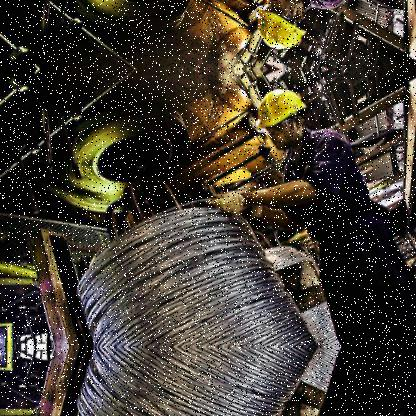Helmet: (252, 92, 311, 156), (251, 5, 313, 57)
